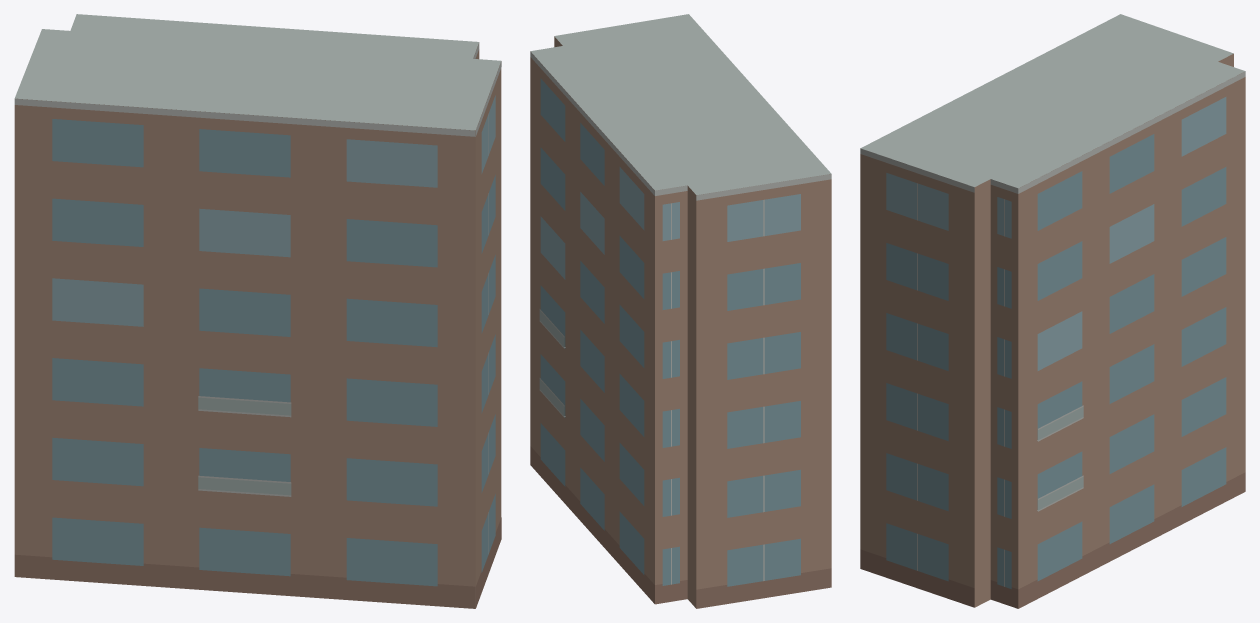
File: survey-upis-33037713.glb
3 views of the same model, side by side, from view 1: azimuth 30°, elevation 25°; view 2: azimuth 150°, elevation 25°; view 3: azimuth 270°, elevation 25° (orthographic). The views are drawn at different scales.
Visible parts, largest first — view 1: survey-upis-33037713.tmp; view 2: survey-upis-33037713.tmp; view 3: survey-upis-33037713.tmp.
Boxes of the visible parts, left/top/right/bottom form: survey-upis-33037713.tmp: left=14, top=14, right=501, bottom=608; survey-upis-33037713.tmp: left=530, top=14, right=831, bottom=608; survey-upis-33037713.tmp: left=860, top=14, right=1245, bottom=608.
Size of the model in its own units: 16.28 by 18.3 by 15.2.
